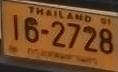letters: (67, 22, 82, 49), (99, 28, 114, 55), (25, 16, 39, 43), (83, 25, 97, 52), (52, 20, 65, 48), (13, 14, 18, 41)
province: (27, 48, 98, 64)
